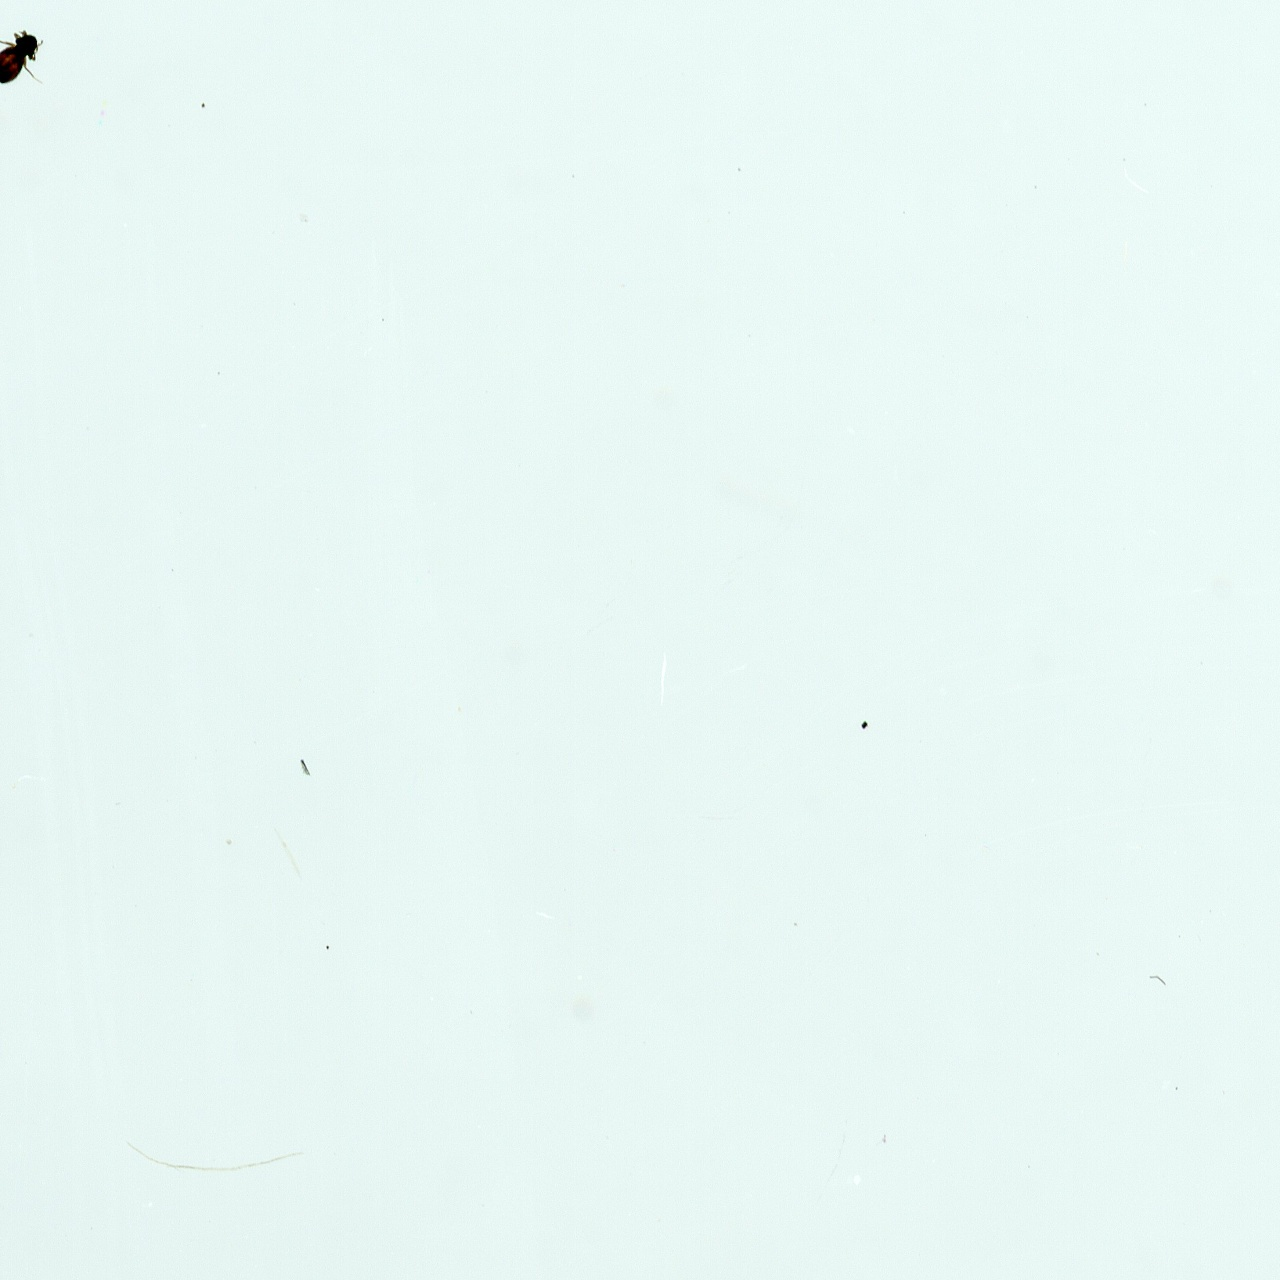arthropod: (0, 27, 45, 91)
